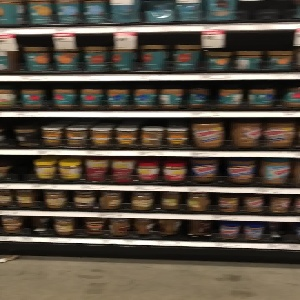void: (235, 1, 300, 23), (8, 156, 36, 183)
